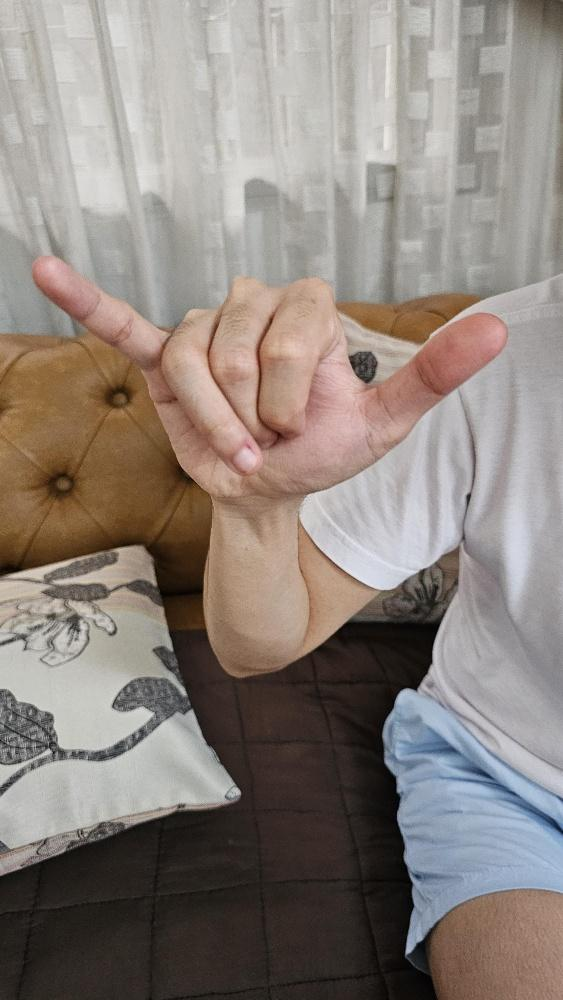y: (28, 249, 510, 508)
